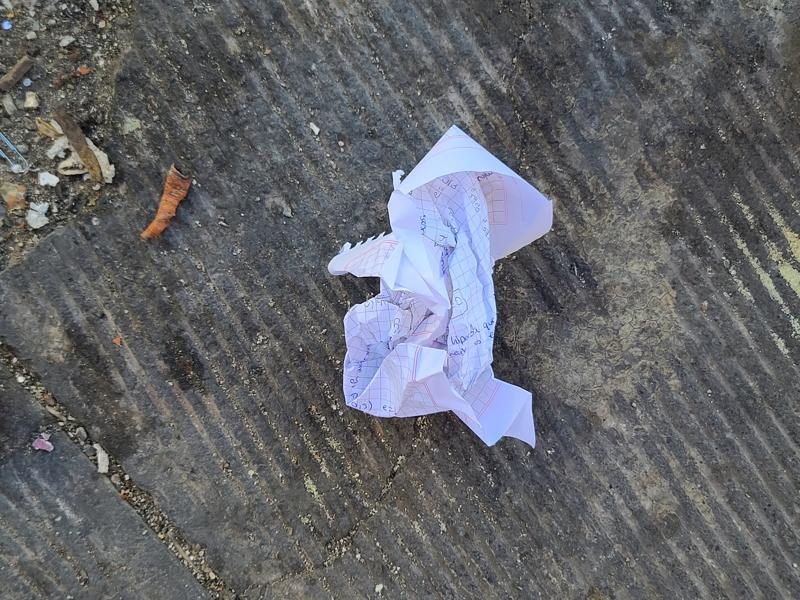papel: (327, 127, 554, 449)
